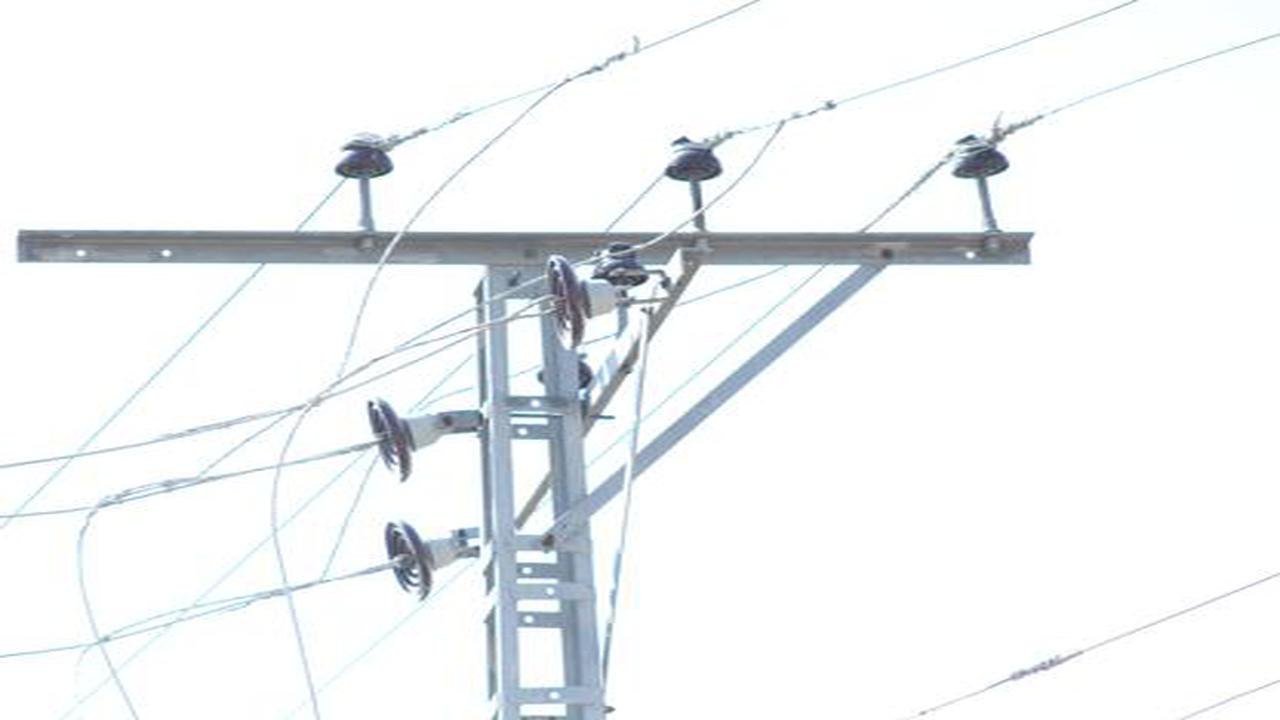insulator_disc: (367, 389, 441, 487), (380, 516, 457, 604), (541, 253, 601, 348)
insulator_pin: (662, 131, 727, 188), (333, 133, 396, 184), (950, 134, 1013, 184), (589, 243, 654, 289)
